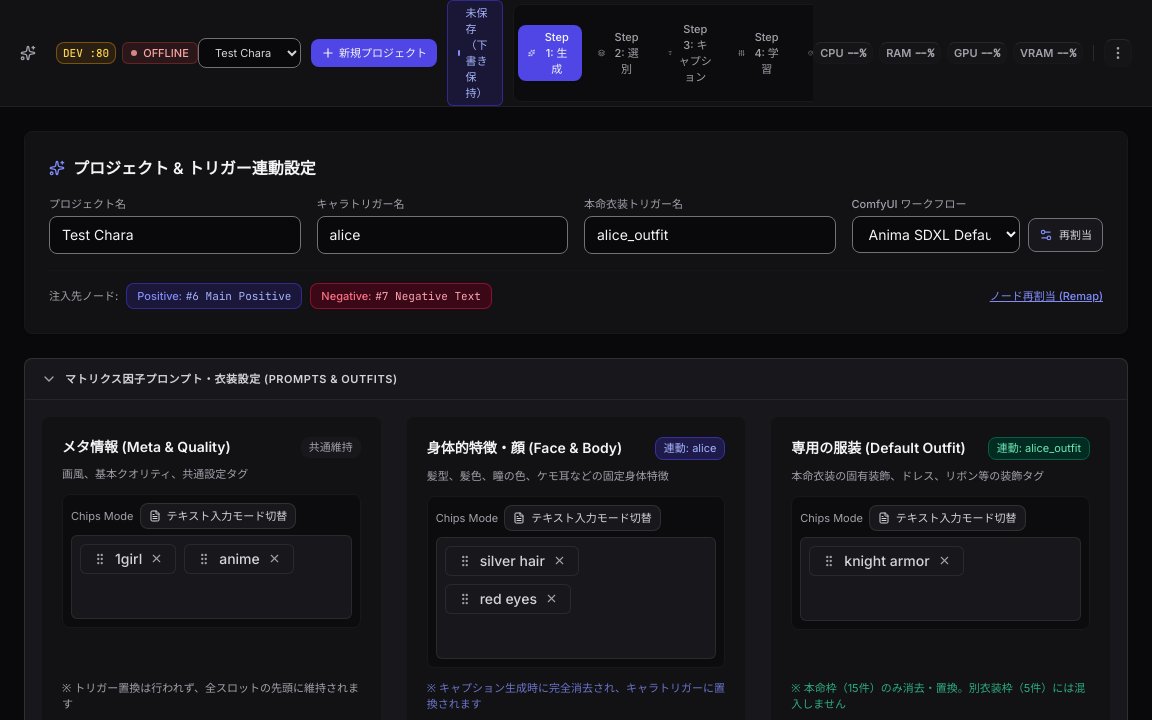
Test: MatrixGenerationStep › opens CreateProjectModal when clicking new project button and updates activeProject on creation (AC-6)
The image size is (1152, 720).
Click the button with test id "open-create-project-modal-btn".
click(374, 53)  # box left=311, top=39, right=437, bottom=67
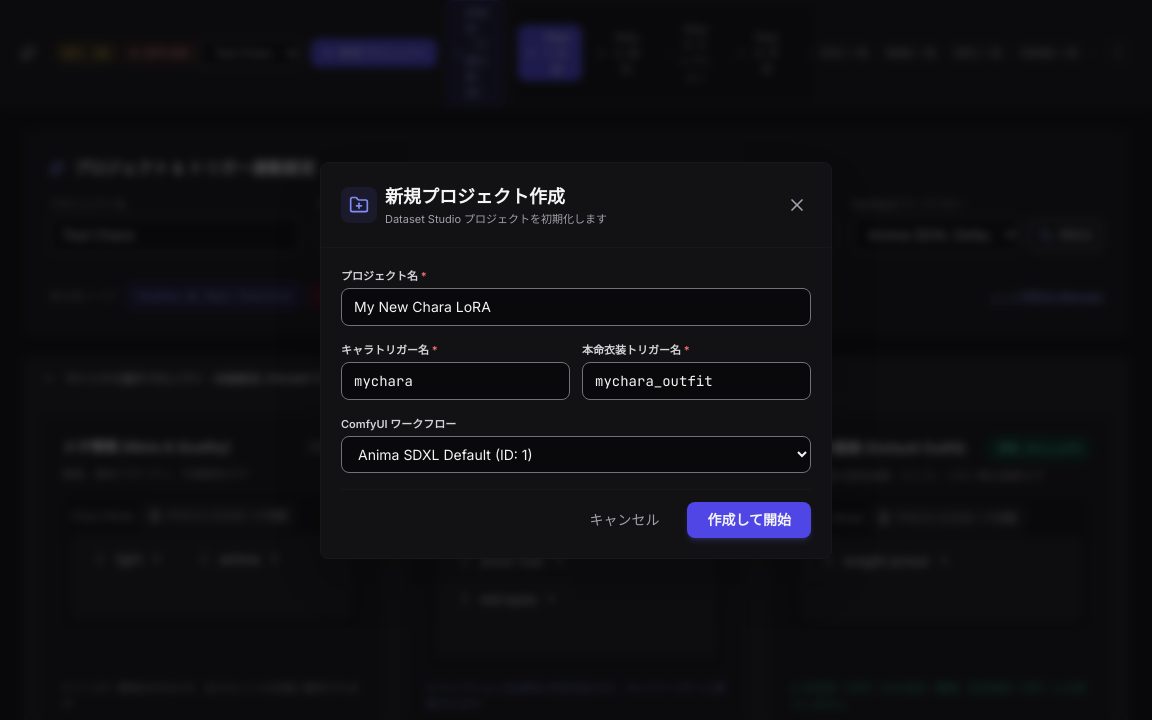
Now the element with test id "create-project-modal" is shown, box left=320, top=162, right=832, bottom=558
// Submit modal
Click the button with test id "submit-create-project-btn".
click(749, 520)  # box left=687, top=502, right=811, bottom=538
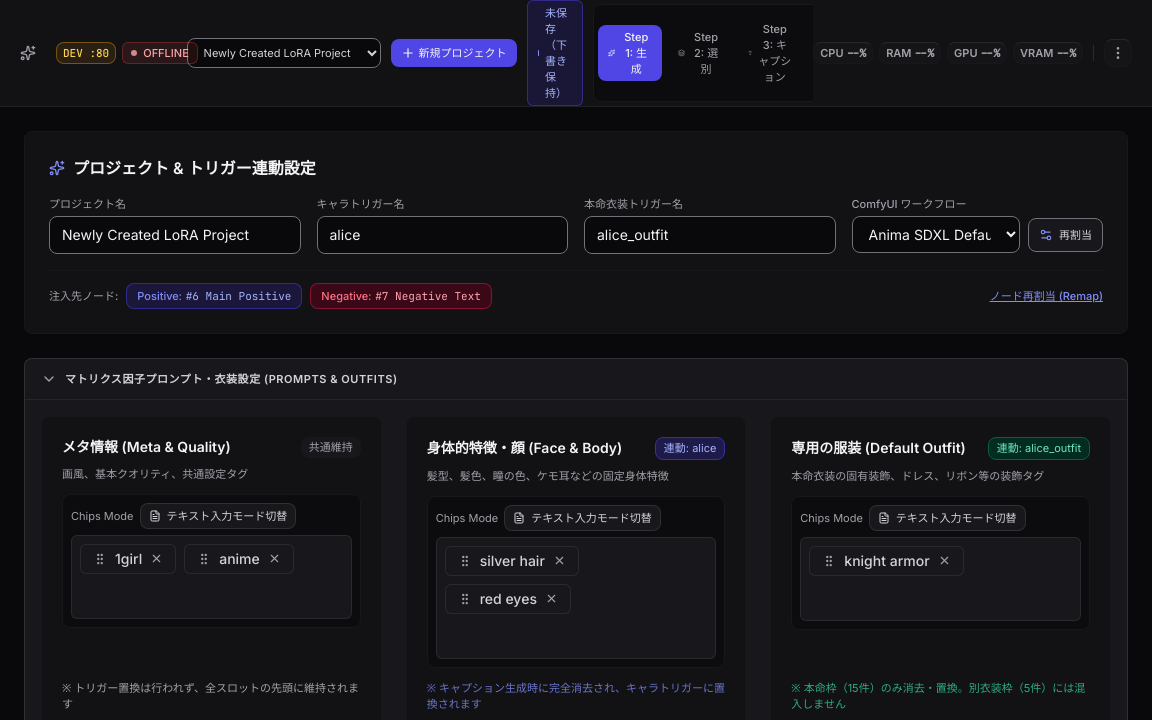
Now the element with test id "create-project-modal" is gone
